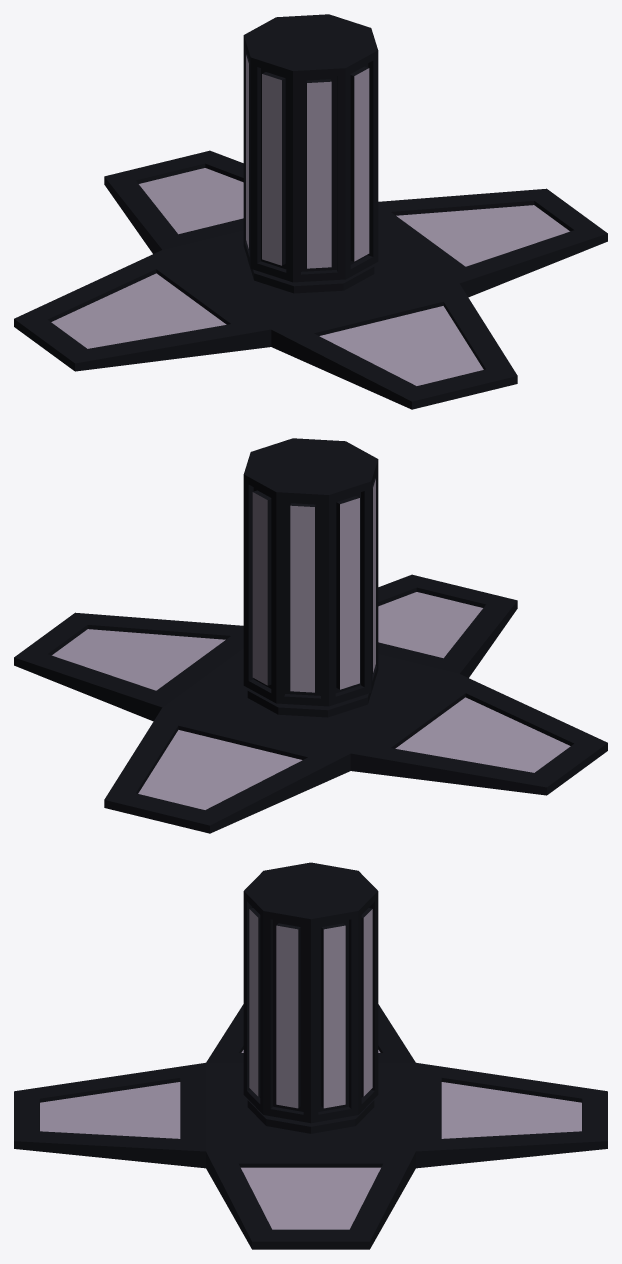
File: sci-fi-antenna.fbx
3 renders of one model, top to bottom at view 1: azimuth 30°, elevation 25°; view 2: azimuth 150°, elevation 25°; view 3: azimuth 270°, elevation 25°, orthographic. The views are drawn at different scales.
Visible parts, largest first — view 1: stand, leg; view 2: stand, leg; view 3: stand, leg.
Part boxes in pixels (x1,y1,x2,y2): stand: (14, 150, 607, 409); leg: (243, 14, 378, 282); stand: (14, 574, 607, 833); leg: (243, 438, 378, 706); stand: (14, 1004, 607, 1249); leg: (243, 862, 378, 1123).
Size of the model in its own units: 566 by 248 by 566.
1 material, 1 textured.
